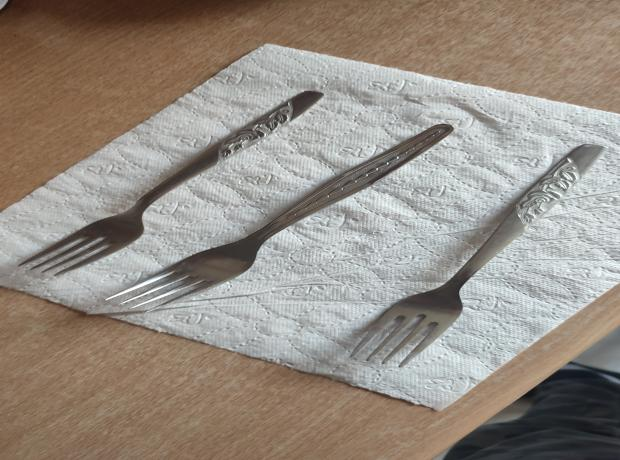metal: (102, 122, 457, 315), (347, 142, 611, 368), (14, 91, 328, 276)
